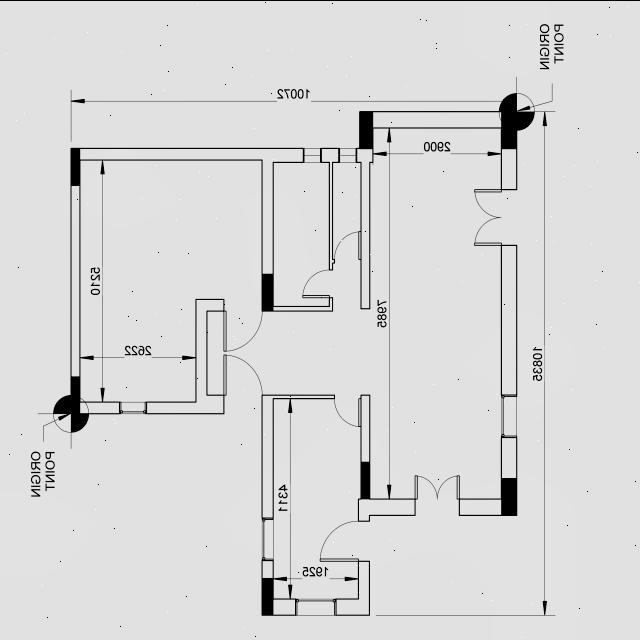Column: (498, 474, 518, 518), (356, 108, 376, 151), (499, 108, 519, 150), (259, 270, 275, 314), (259, 574, 275, 616), (358, 458, 372, 501), (69, 146, 83, 188), (68, 374, 82, 416)
Door: (314, 513, 364, 565), (222, 353, 266, 399), (220, 304, 262, 352), (330, 388, 365, 428), (333, 224, 363, 262), (299, 267, 333, 299)
Double-Door: (465, 185, 507, 248), (411, 466, 465, 506)
Window: (292, 594, 338, 616), (498, 392, 520, 438), (260, 512, 276, 562), (117, 399, 149, 415)
